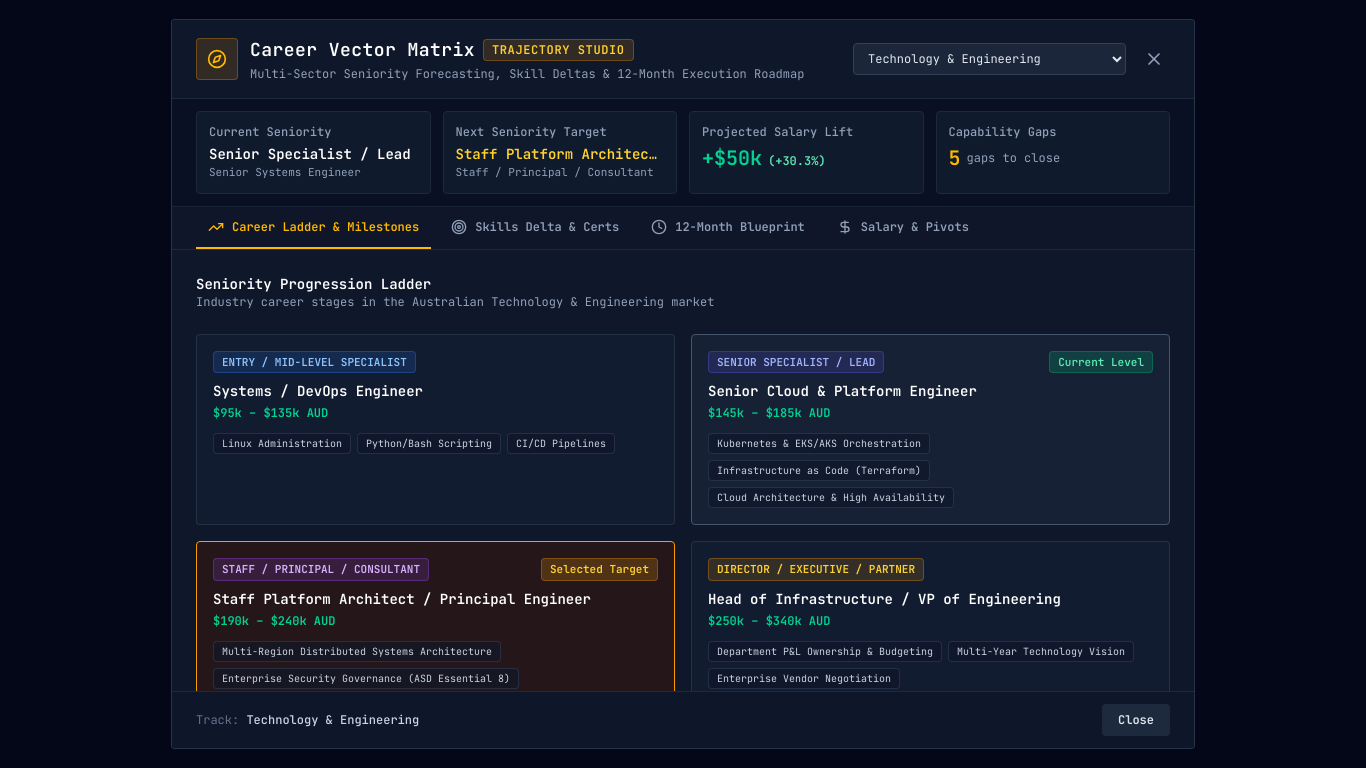
Test case: CareerMatrixModal › switches tabs cleanly to skills deltas, 12m milestones, and salary pivots
# Switch to Skills Delta
Click the tab "Skills Delta & Certs".
click(535, 228)  # box [439, 207, 631, 249]
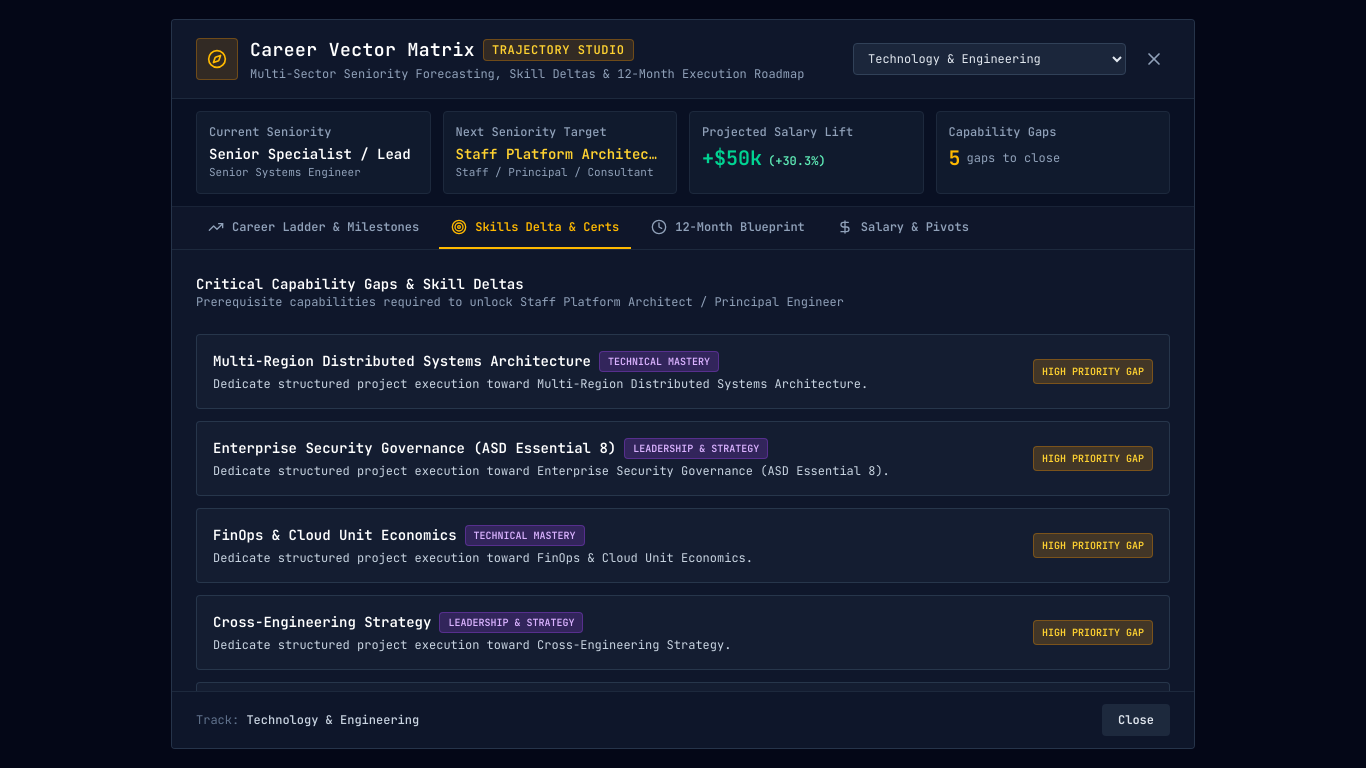
Expected: the heading "Critical Capability Gaps & Skill Deltas" is shown, [196, 275, 524, 293]
# Switch to 12M Blueprint
Click the tab "12-Month Blueprint".
click(728, 228)  # box [639, 207, 817, 249]
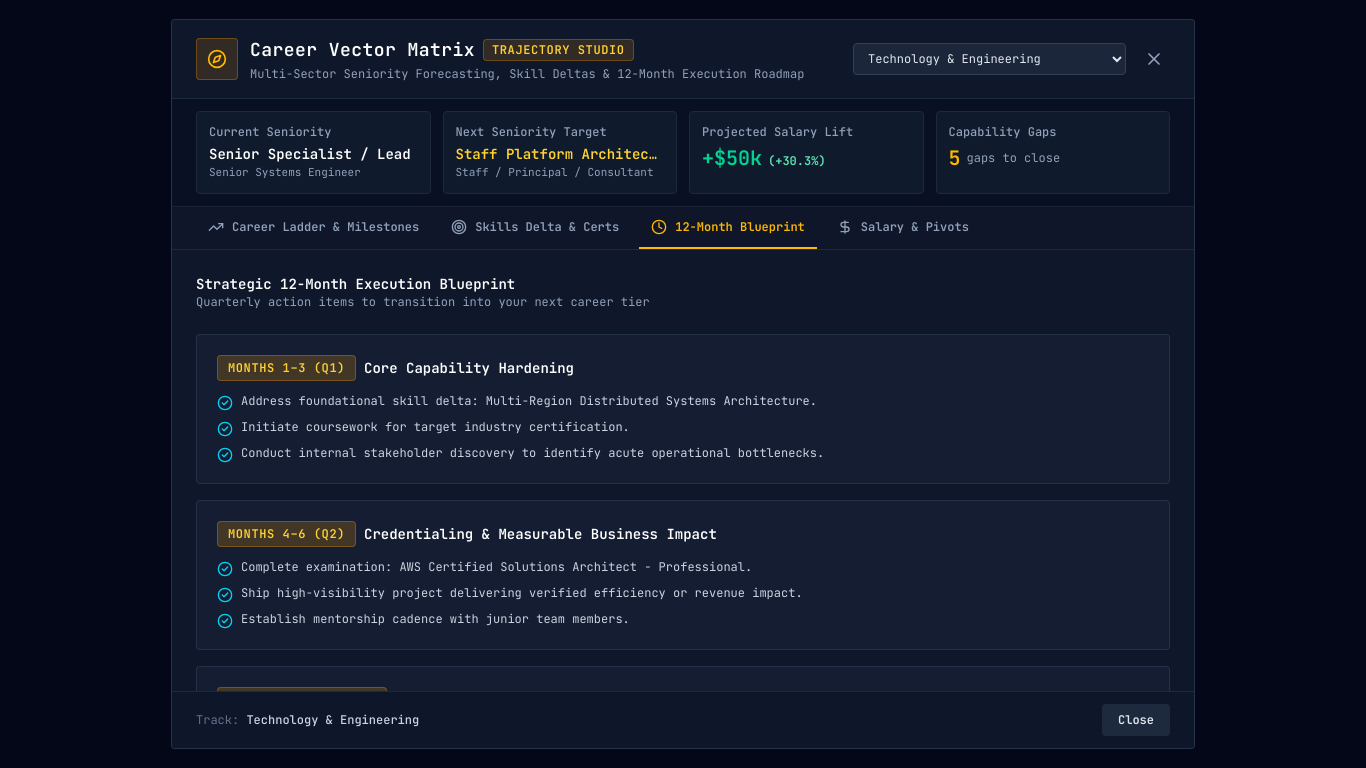
Expected: the text "Months 1–3 (Q1)" is shown, [217, 355, 356, 381]
# Switch to Salary & Pivots
Click the tab "Salary & Pivots".
click(903, 228)  # box [825, 207, 981, 249]
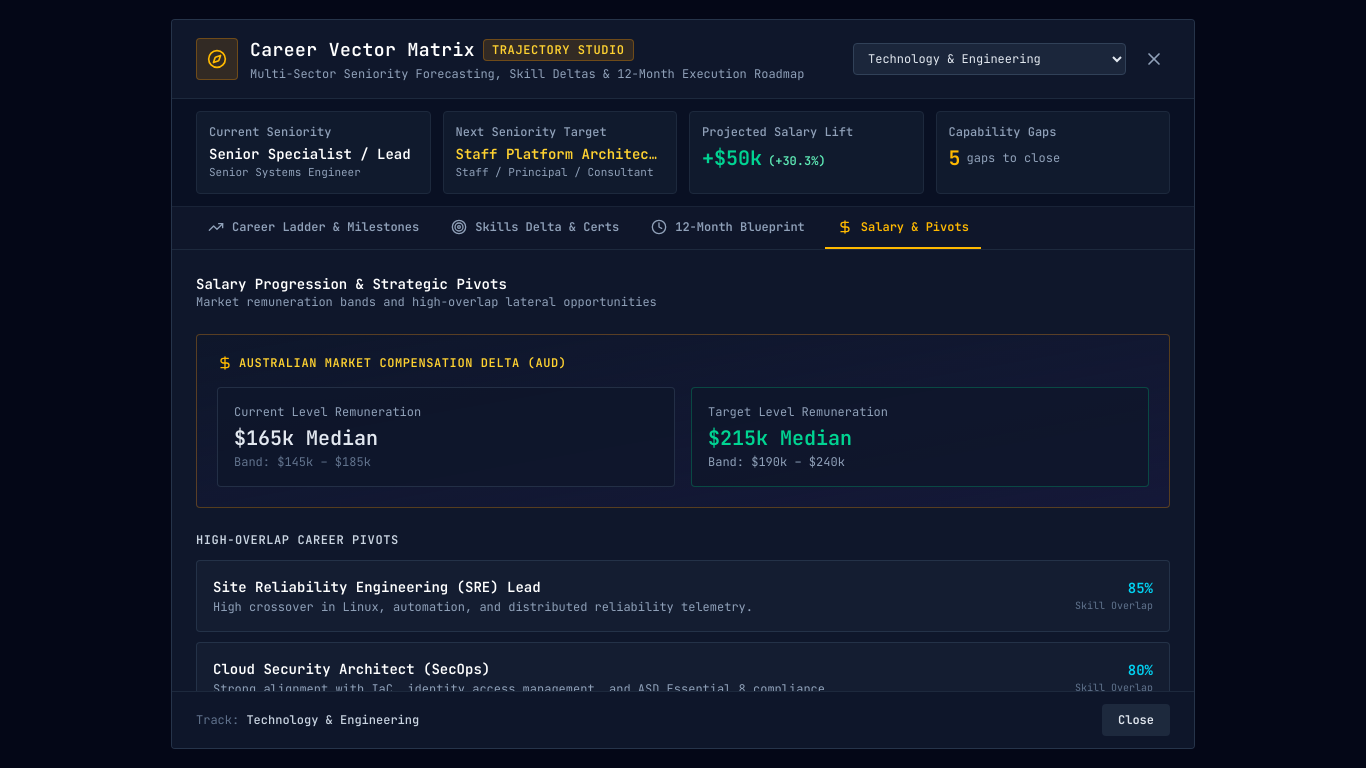
Expected: the heading "High-Overlap Career Pivots" is shown, [196, 532, 399, 548]
